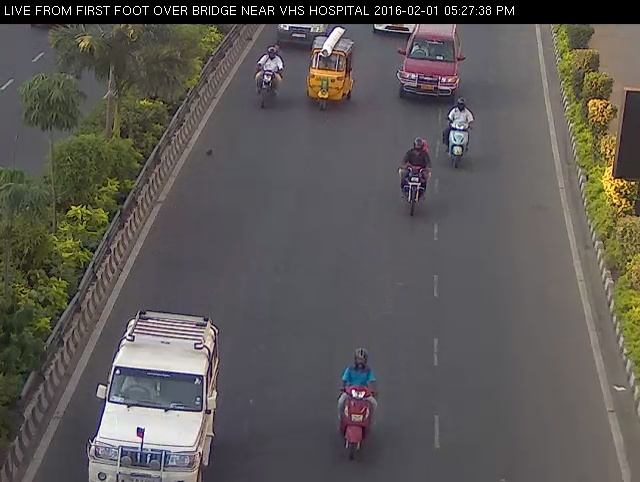Auto: (305, 27, 357, 112)
Bus: (86, 301, 221, 482)
Car: (389, 23, 474, 103), (270, 13, 332, 45), (274, 15, 331, 48), (363, 15, 427, 39)
Person: (332, 342, 382, 467), (391, 128, 436, 225), (440, 94, 481, 173), (250, 43, 289, 115)
